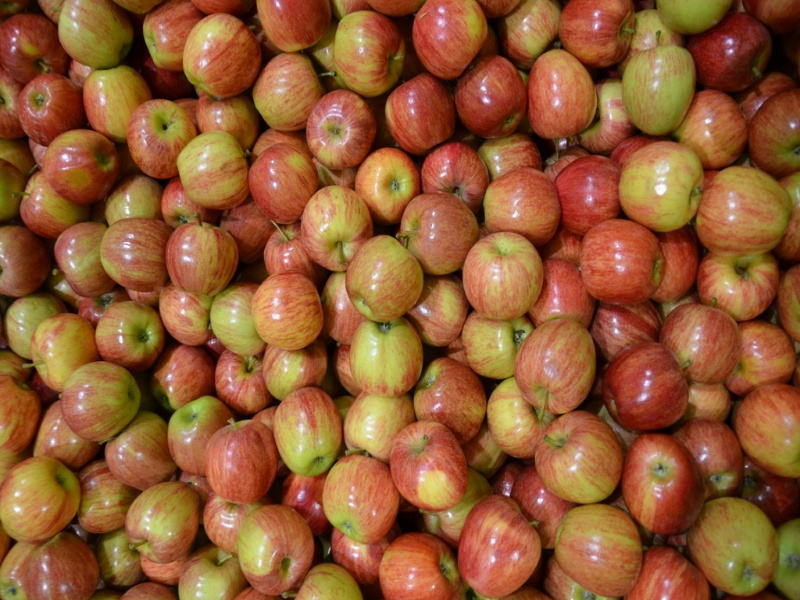apple: (612, 23, 695, 134), (620, 428, 706, 534), (386, 412, 475, 512), (601, 336, 697, 426), (618, 139, 706, 231), (231, 502, 315, 598), (338, 232, 426, 322), (2, 450, 82, 547), (460, 227, 545, 315), (328, 7, 407, 99), (449, 56, 525, 149), (54, 361, 146, 437), (265, 387, 344, 474), (162, 209, 239, 291), (297, 91, 375, 171), (44, 126, 118, 199)
